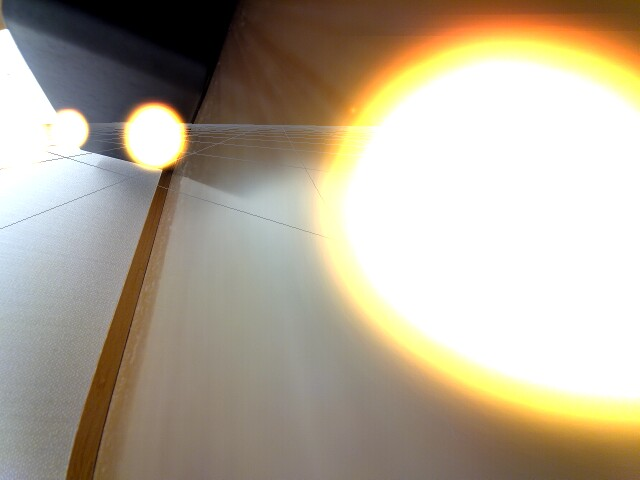firebig: (288, 3, 640, 442)
